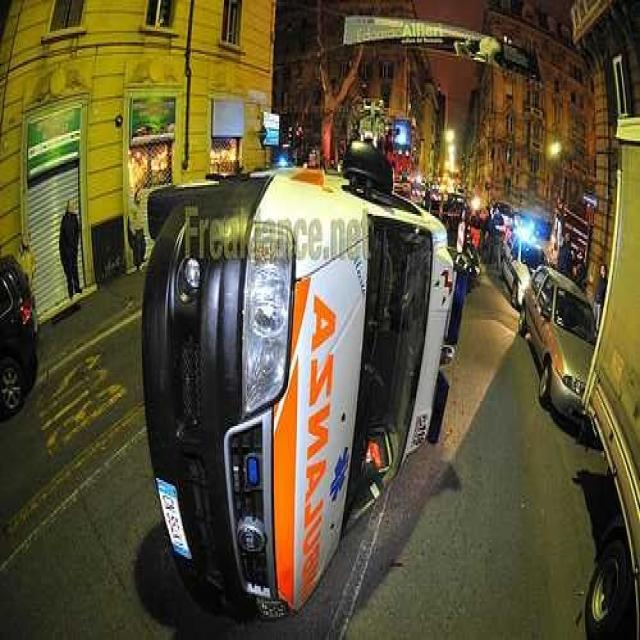ambulance: (146, 155, 465, 611)
